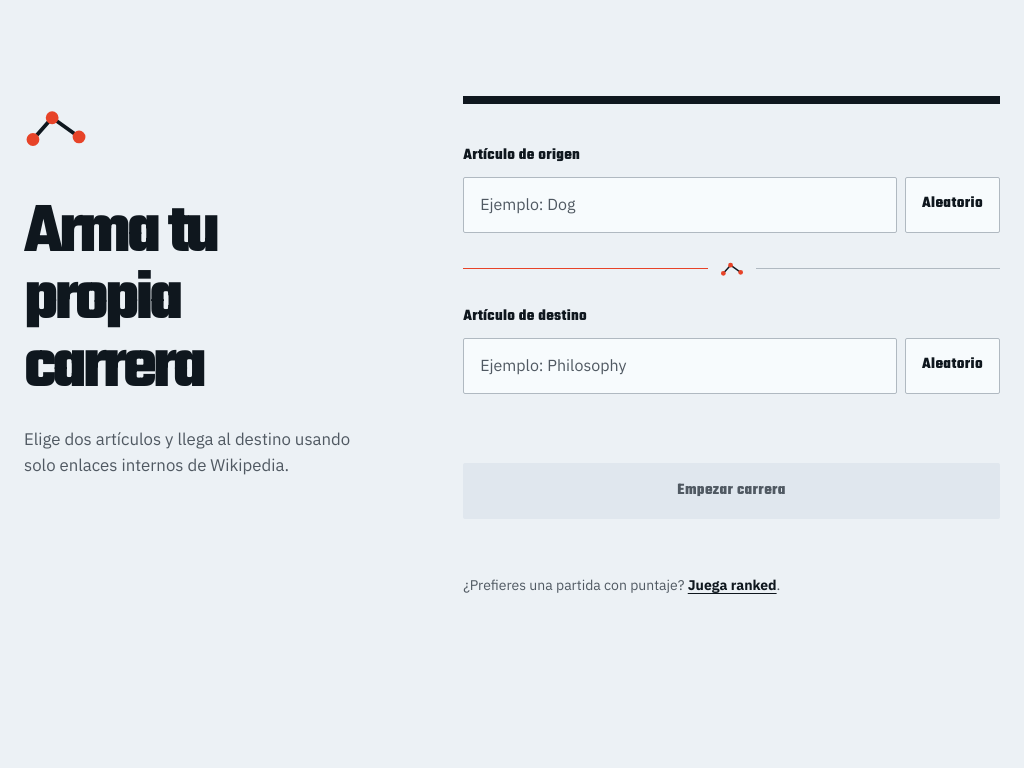
it: PlayPage › activa la carrera solo después de completar origen y destino
The width and height of the screenshot is (1024, 768).
Expected: the button "Empezar carrera" is disabled, x1=463 y1=463 x2=1000 y2=519
Step 1. Type "Dog" into the field labelled "Artículo de origen" → (680, 205), box x1=463 y1=177 x2=897 y2=233
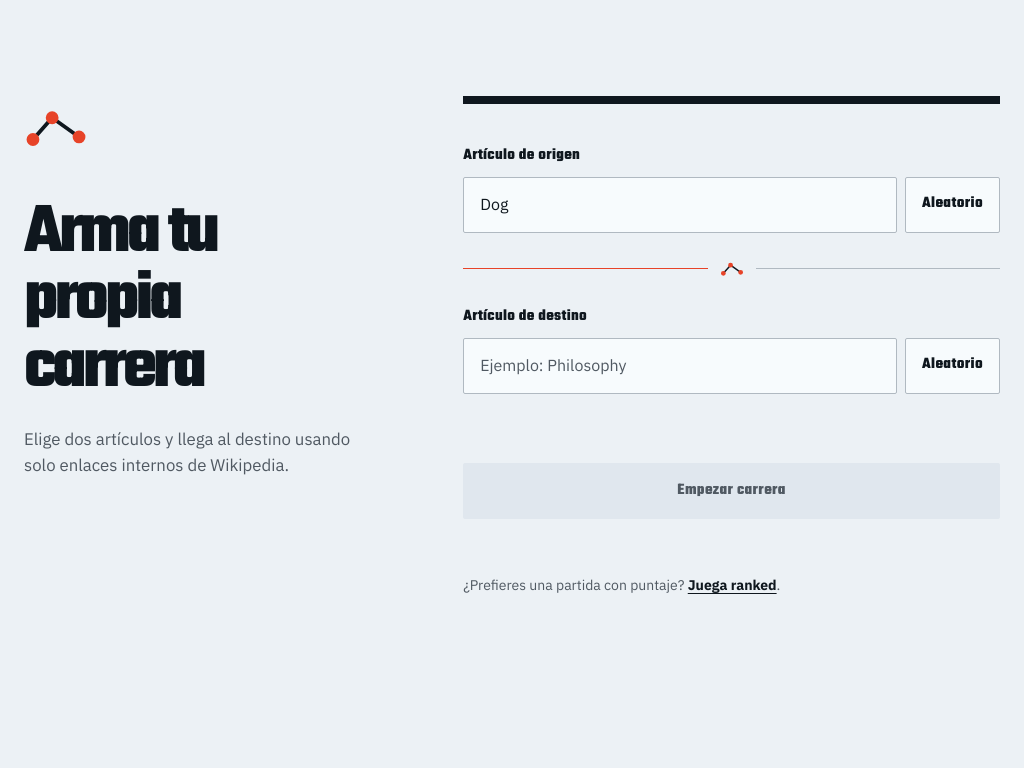
Step 2. Type "Cat" into the field labelled "Artículo de destino" → (680, 366), box x1=463 y1=338 x2=897 y2=394
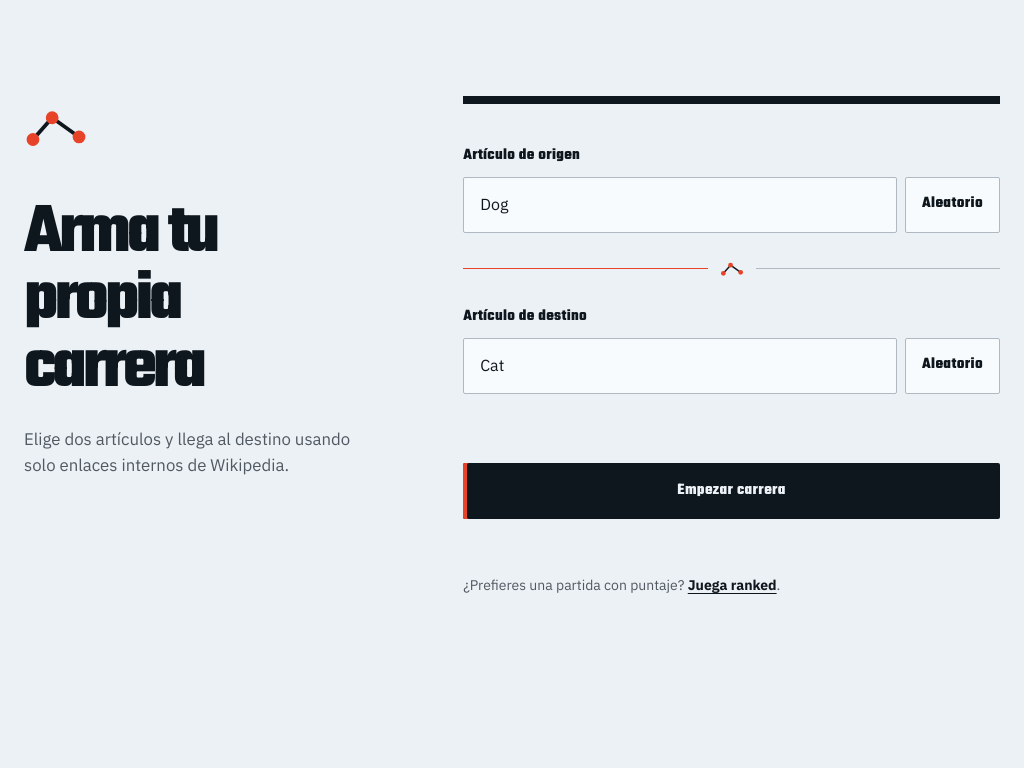
Result: the button "Empezar carrera" is enabled
Step 3. Click the button "Empezar carrera" → (732, 491), box x1=463 y1=463 x2=1000 y2=519
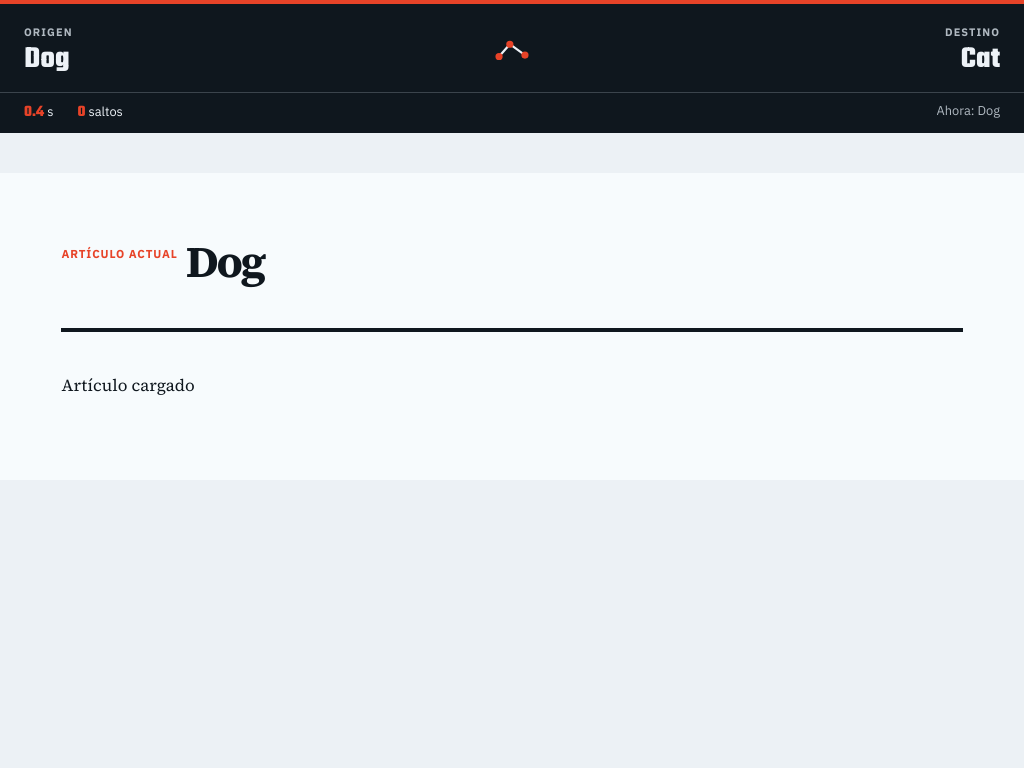
Result: the element named "Estado de la carrera" is shown at x1=0 y1=0 x2=1023 y2=133
Result: the text "Dog" is shown at x1=24 y1=38 x2=70 y2=82
Result: the text "Cat" is shown at x1=961 y1=38 x2=1000 y2=82
